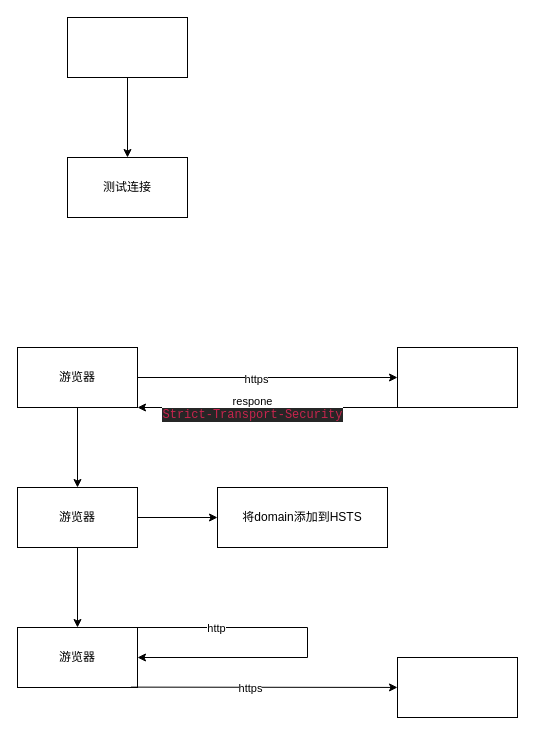
Some shapes in this 535 by 735 pixel diagram are drawn without their labels. The centre of each missing label's shape, as x and y in pixels:
"fragment tcp 页面" goes at point (127, 47).
"服务端" goes at point (457, 687).
"服务端 (Nginx)" goes at point (457, 377).
